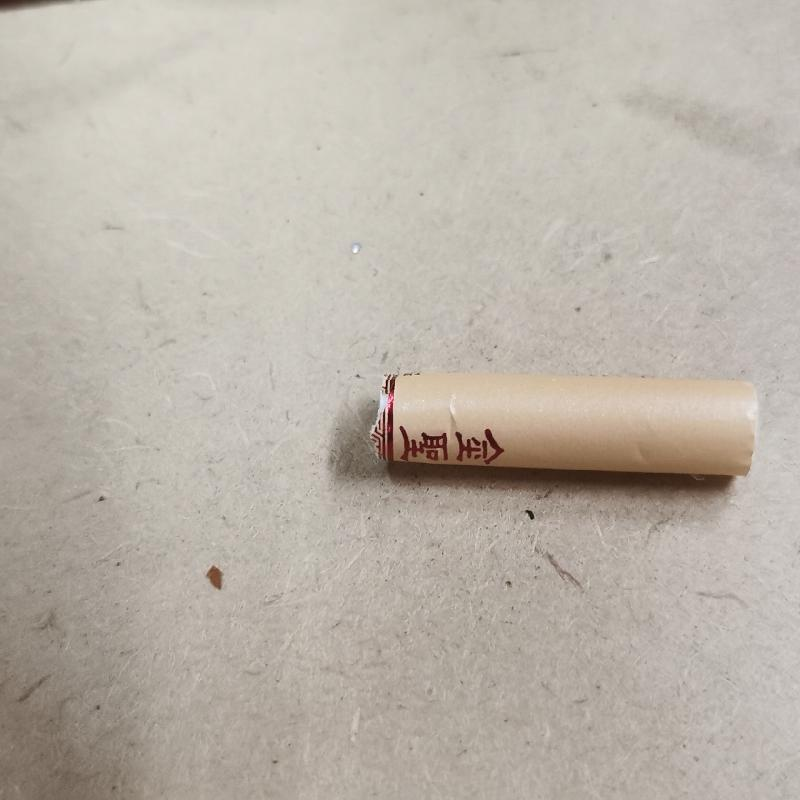cigarette: (365, 359, 761, 484)
